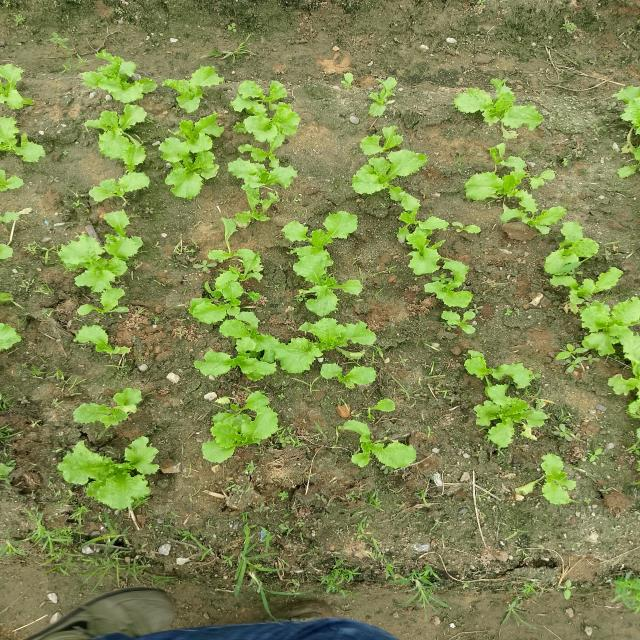Lettuce: (49, 428, 174, 511), (52, 228, 149, 308), (290, 318, 386, 393), (447, 393, 545, 455), (202, 397, 297, 459), (402, 252, 488, 314), (519, 218, 599, 284), (185, 261, 263, 327), (381, 205, 474, 260), (351, 130, 422, 200), (281, 250, 363, 308), (446, 88, 542, 136), (349, 70, 426, 126), (203, 327, 280, 382), (78, 50, 151, 107), (94, 102, 150, 174), (462, 167, 552, 208), (240, 94, 307, 149), (160, 141, 221, 200), (463, 350, 543, 394), (579, 306, 640, 363), (352, 434, 423, 482), (160, 67, 223, 114), (91, 382, 149, 430), (0, 115, 49, 171), (606, 79, 640, 159), (86, 168, 152, 209), (534, 451, 581, 507), (308, 208, 361, 254), (74, 325, 130, 363), (219, 199, 276, 227), (608, 370, 640, 402)
